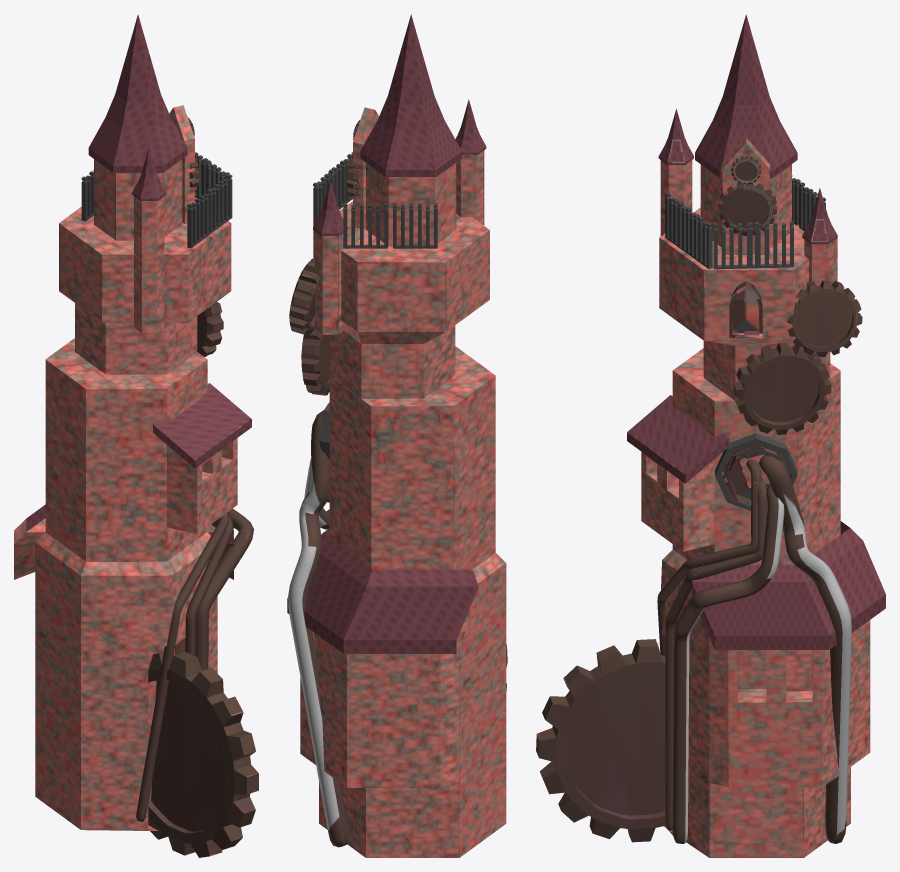
The model's file is tower4.fbx.
The picture shows the model from 3 angles, left to right: view 1: azimuth 30°, elevation 25°; view 2: azimuth 150°, elevation 25°; view 3: azimuth 270°, elevation 25°; orthographic projection. The views are drawn at different scales.
Visible parts, largest first — view 1: Cylinder.000; view 2: Cylinder.000; view 3: Cylinder.000.
Part boxes in pixels (x1,y1,x2,y2): Cylinder.000: (14, 14, 258, 857); Cylinder.000: (287, 14, 507, 857); Cylinder.000: (536, 14, 885, 857).
Bounding box in the file's own units: 962 × 3864 × 1482.
Materials: 1 (1 with a texture image).
